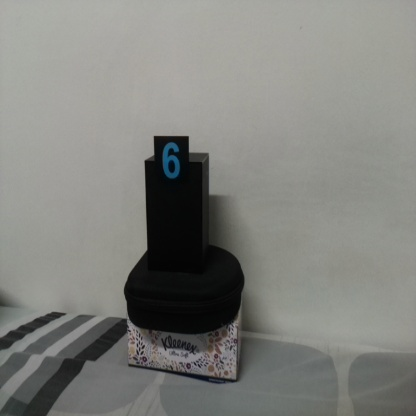id_6: (155, 137, 190, 192)
